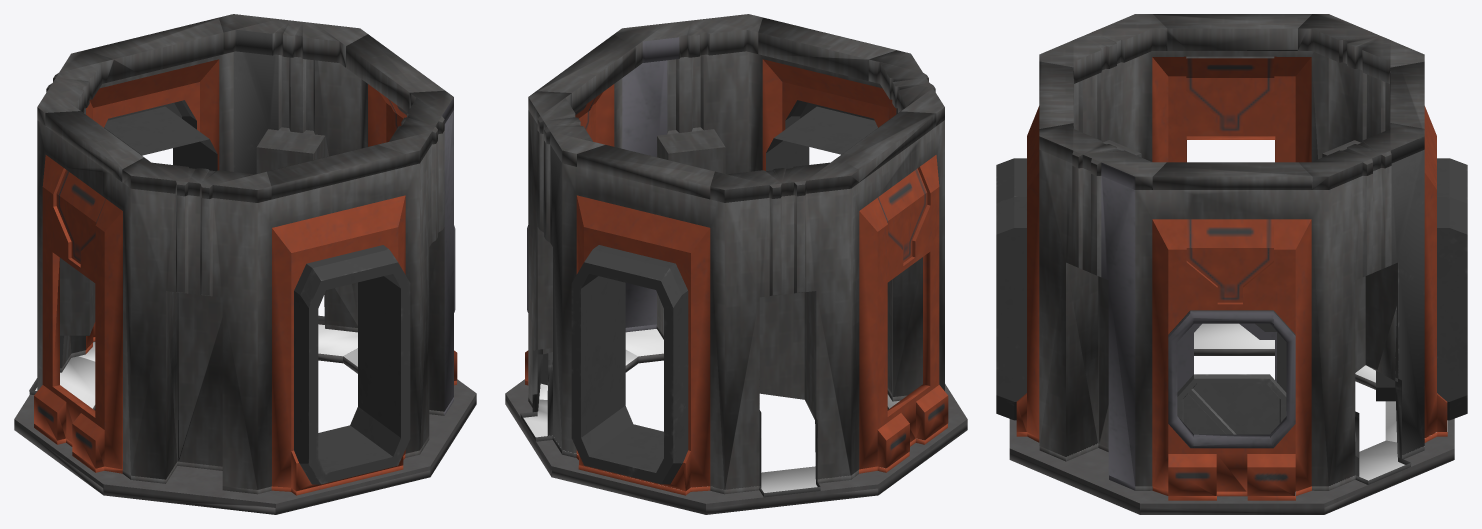
The model's file is Engineering.fbx.
3 views of the same model, side by side, from view 1: azimuth 30°, elevation 25°; view 2: azimuth 150°, elevation 25°; view 3: azimuth 270°, elevation 25° (orthographic). The views are drawn at different scales.
Visible parts, largest first — view 1: Engineering_8, Engineering_14, Engineering_19, Engineering_18, Engineering_5, Engineering_27, Engineering_32, Engineering_10, Engineering_25, Engineering_12, Engineering_31, Engineering_3 (+20 smaller); view 2: Engineering_15, Engineering_5, Engineering_18, Engineering_14, Engineering_19, Engineering_25, Engineering_12, Engineering_27, Engineering_29, Engineering_30, Engineering_10, Engineering_Ceiling_seg02 (+22 smaller); view 3: Engineering_12, Engineering_19, Engineering_10, Engineering_18, Engineering_21, Engineering_22, Engineering_14, Engineering_5, Engineering_23, Engineering_Ceiling_seg07, Engineering_Ceiling_seg08, Engineering_Ceiling_seg06 (+18 smaller).
Boxes of the visible parts, bbox=[...] form: Engineering_8: bbox=[221, 192, 321, 491]; Engineering_14: bbox=[83, 168, 178, 479]; Engineering_19: bbox=[355, 148, 429, 468]; Engineering_18: bbox=[170, 51, 269, 174]; Engineering_5: bbox=[34, 120, 90, 430]; Engineering_27: bbox=[300, 174, 398, 300]; Engineering_32: bbox=[179, 292, 222, 466]; Engineering_10: bbox=[312, 61, 395, 327]; Engineering_25: bbox=[104, 62, 214, 155]; Engineering_12: bbox=[429, 110, 457, 411]; Engineering_31: bbox=[167, 193, 221, 297]; Engineering_3: bbox=[258, 54, 324, 155]; Engineering_15: bbox=[660, 192, 761, 491]; Engineering_5: bbox=[802, 169, 896, 481]; Engineering_18: bbox=[547, 148, 627, 468]; Engineering_14: bbox=[892, 120, 948, 431]; Engineering_19: bbox=[711, 51, 811, 174]; Engineering_25: bbox=[583, 174, 681, 300]; Engineering_12: bbox=[586, 61, 670, 334]; Engineering_27: bbox=[769, 62, 877, 154]; Engineering_29: bbox=[659, 54, 722, 156]; Engineering_30: bbox=[762, 193, 813, 296]; Engineering_10: bbox=[525, 110, 552, 412]; Engineering_Ceiling_seg02: bbox=[614, 14, 762, 67]; Engineering_12: bbox=[1107, 178, 1194, 495]; Engineering_19: bbox=[996, 149, 1099, 456]; Engineering_10: bbox=[1274, 179, 1359, 495]; Engineering_18: bbox=[1364, 149, 1467, 458]; Engineering_21: bbox=[1194, 190, 1273, 339]; Engineering_22: bbox=[1177, 374, 1286, 495]; Engineering_14: bbox=[1107, 51, 1194, 162]; Engineering_5: bbox=[1274, 51, 1356, 162]; Engineering_23: bbox=[1194, 51, 1273, 139]; Engineering_Ceiling_seg07: bbox=[1153, 14, 1311, 50]; Engineering_Ceiling_seg08: bbox=[1039, 14, 1167, 83]; Engineering_Ceiling_seg06: bbox=[1298, 14, 1424, 83].
Bounding box in the file's own units: 26.5 × 21.4 × 28.08.
